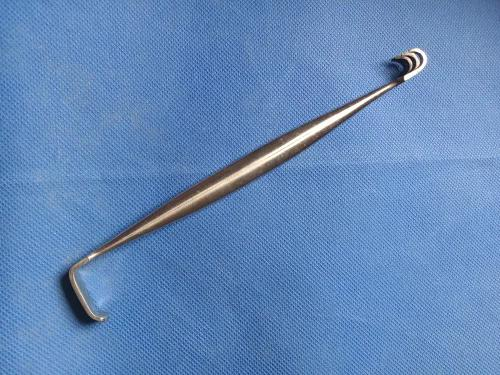Senn Retractor: (59, 43, 439, 332)
